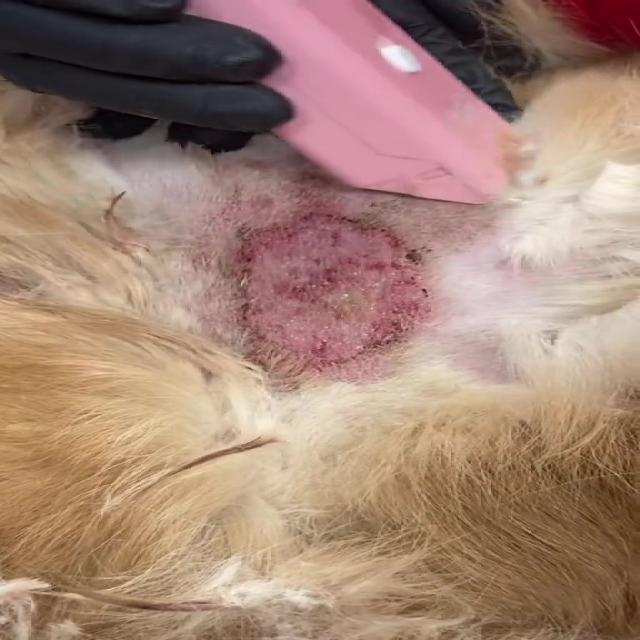hac lao: (189, 190, 474, 409)
